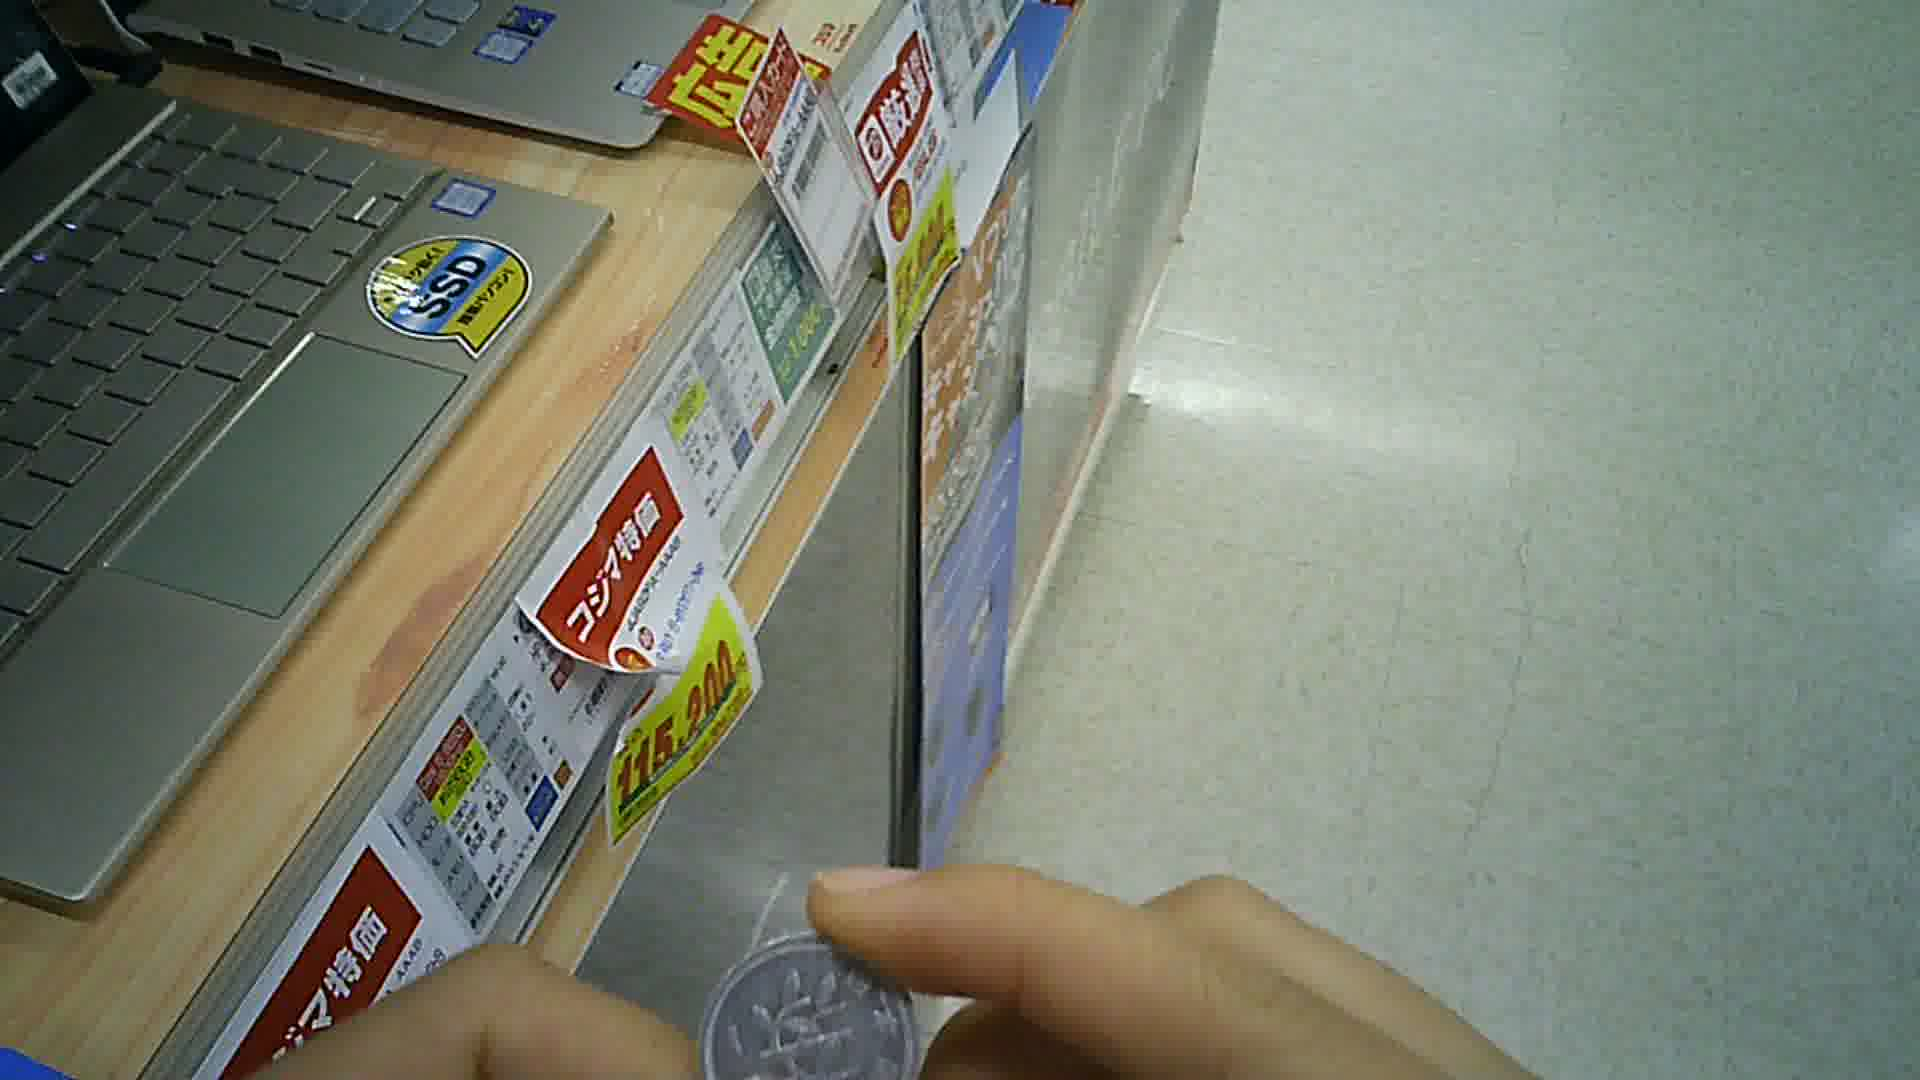1 Yen: (688, 922, 938, 1079)
